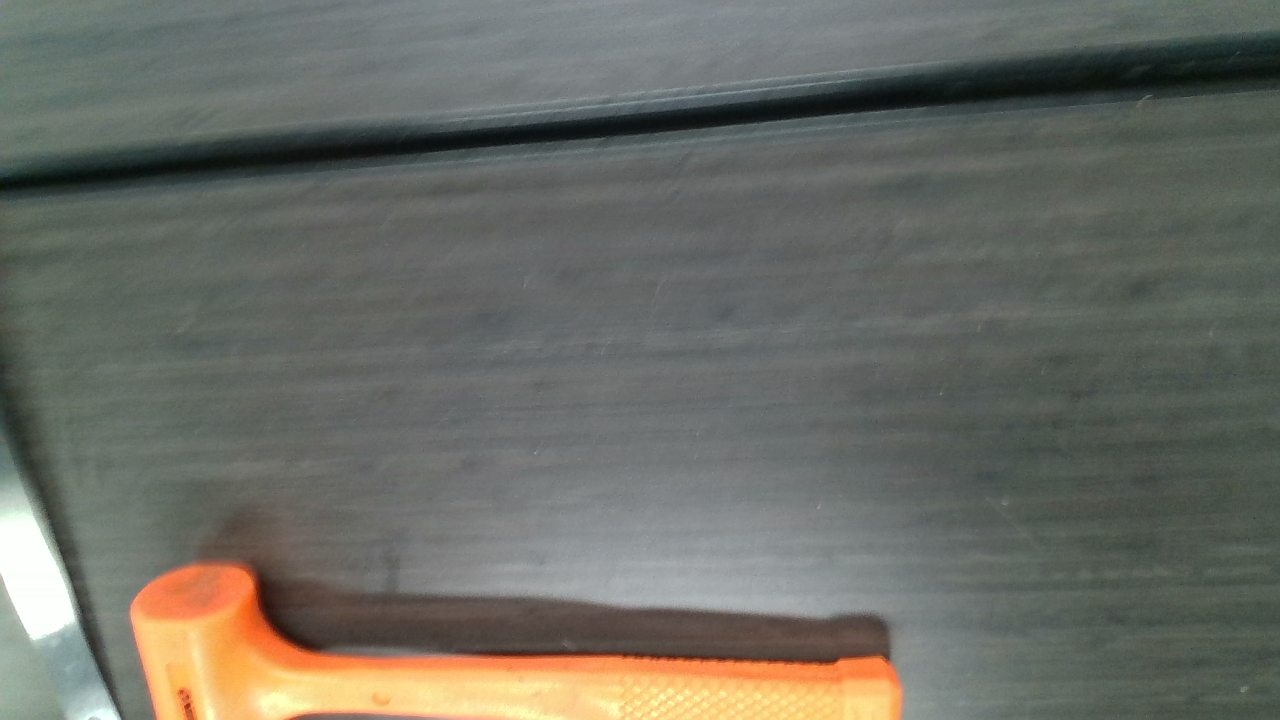Orange Hammer: (134, 567, 897, 719)
